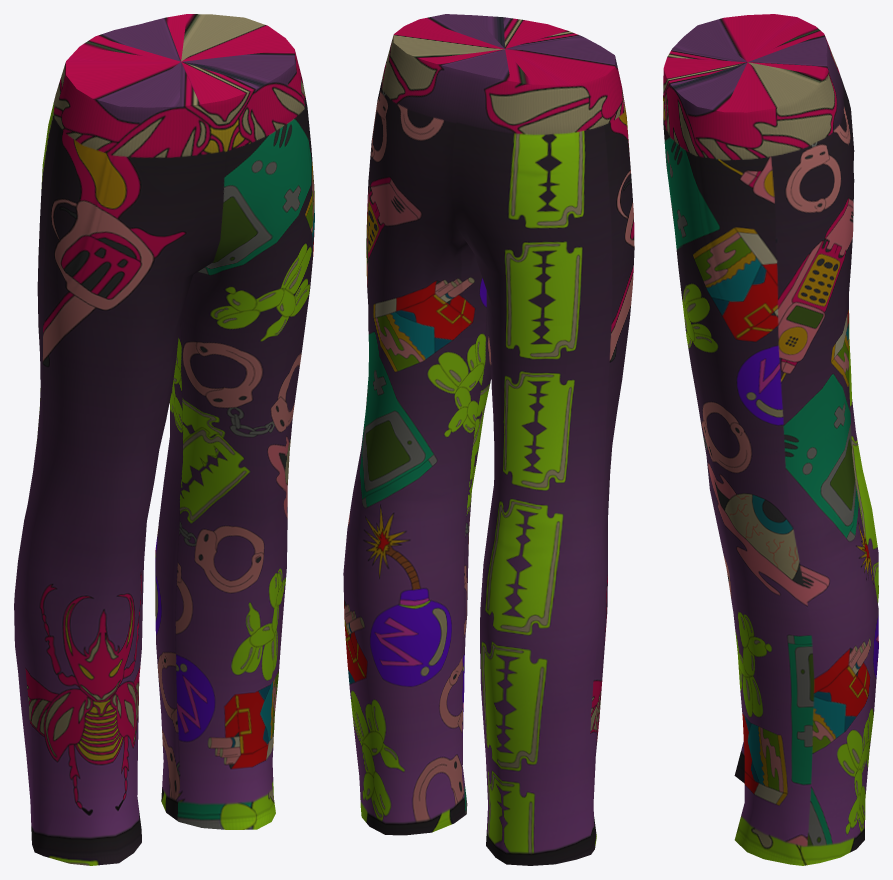
File: Pants_122_Albedo.glb
3 renders of one model, left to right at view 1: azimuth 30°, elevation 25°; view 2: azimuth 150°, elevation 25°; view 3: azimuth 270°, elevation 25°, orthographic. The views are drawn at different scales.
Visible parts, largest first — view 1: Pants_LP; view 2: Pants_LP; view 3: Pants_LP.
Boxes of the visible parts, x1=… form: Pants_LP: x1=14, y1=14, x2=314, y2=865; Pants_LP: x1=343, y1=14, x2=634, y2=865; Pants_LP: x1=663, y1=14, x2=878, y2=865.
Bounding box in the file's own units: 0.3227 × 0.9491 × 0.2454.
Materials: 1 (1 with a texture image).
